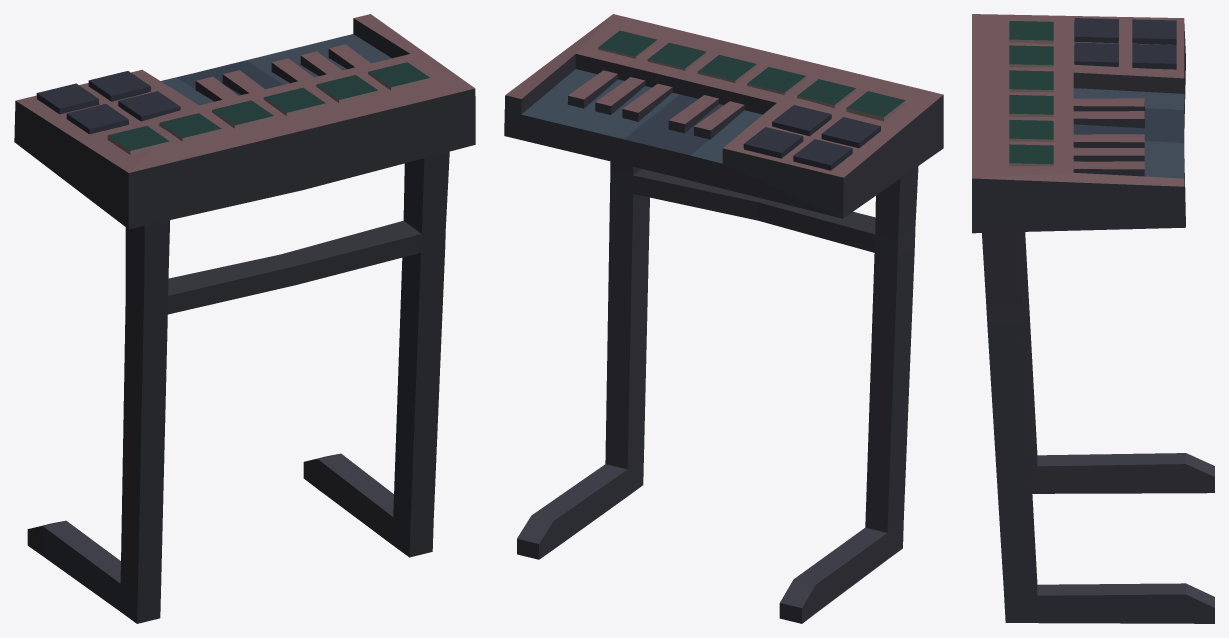
File: CMS_InstrumentSynth.fbx
The picture shows the model from 3 angles, left to right: view 1: azimuth 30°, elevation 25°; view 2: azimuth 150°, elevation 25°; view 3: azimuth 270°, elevation 25°; orthographic projection. The views are drawn at different scales.
Visible parts, largest first — view 1: InstrumentSynthPad; view 2: InstrumentSynthPad; view 3: InstrumentSynthPad.
Part boxes in pixels (x1,y1,x2,y2): InstrumentSynthPad: (14, 14, 475, 623); InstrumentSynthPad: (504, 14, 943, 623); InstrumentSynthPad: (972, 14, 1214, 623).
Bounding box in the file's own units: 430 × 546 × 262.
